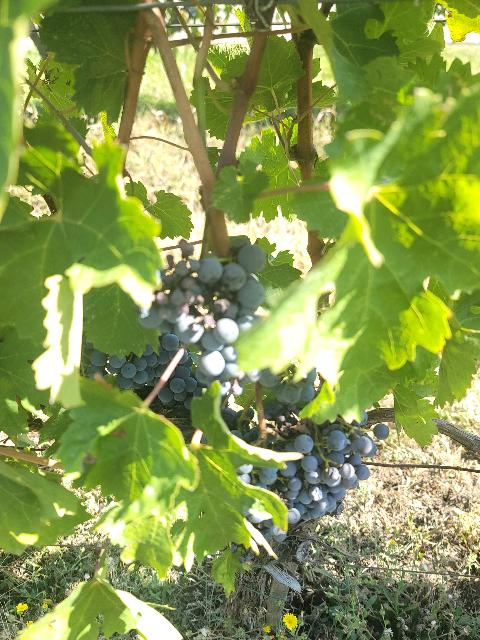grapes: (140, 240, 266, 381), (82, 332, 200, 409), (292, 424, 376, 514), (238, 460, 315, 524), (221, 404, 301, 452)
